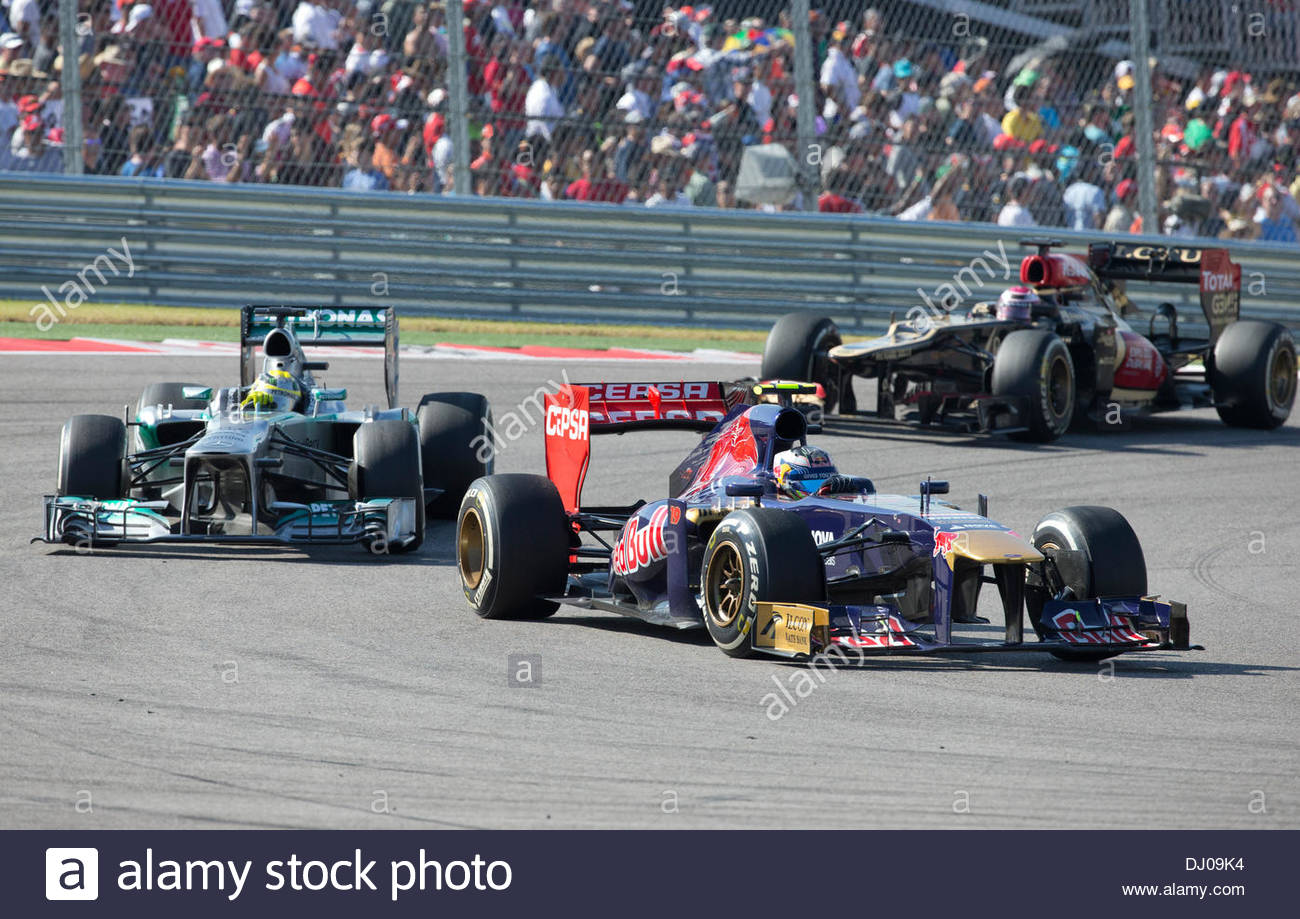f1_car: (446, 355, 1218, 694), (23, 274, 518, 584), (730, 223, 1299, 486)
helmet: (761, 436, 853, 509), (235, 362, 306, 427), (984, 277, 1053, 338)
